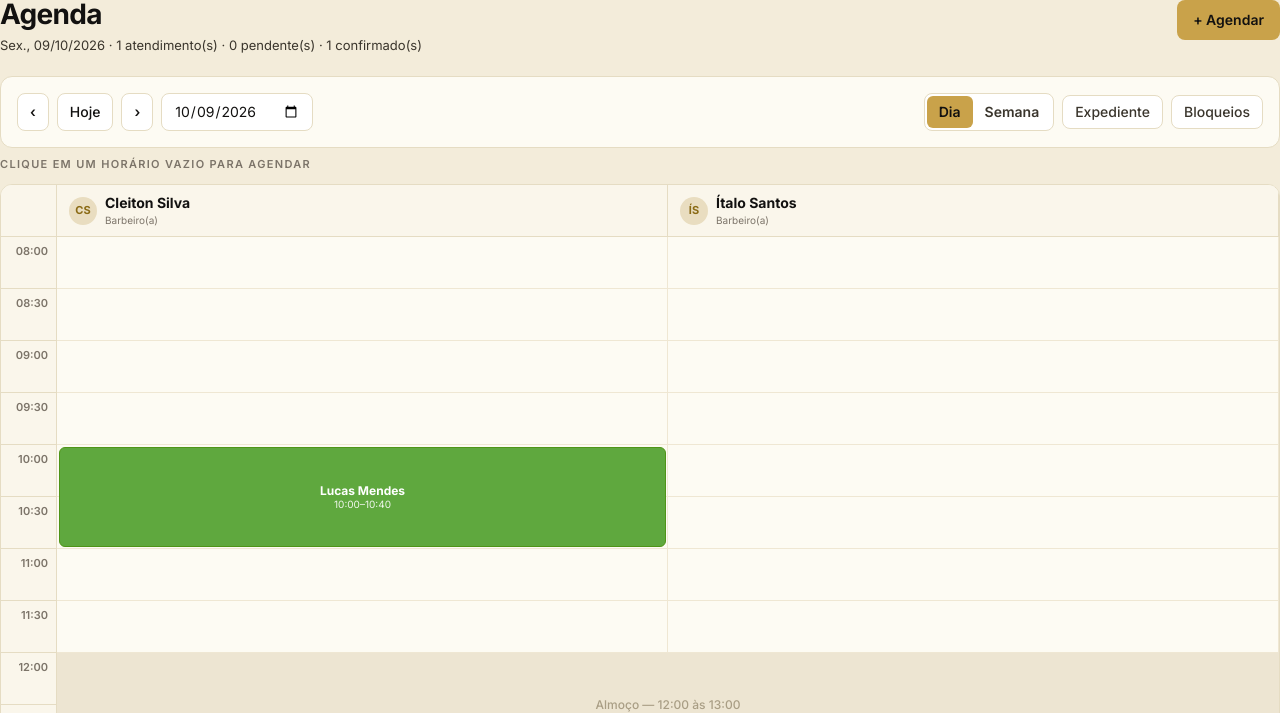
Test: Agenda — visão dia › Finalizar atendimento abre a tela de fechar conta
Click the text "Lucas Mendes" at (362, 491), box x1=320 y1=483 x2=405 y2=498
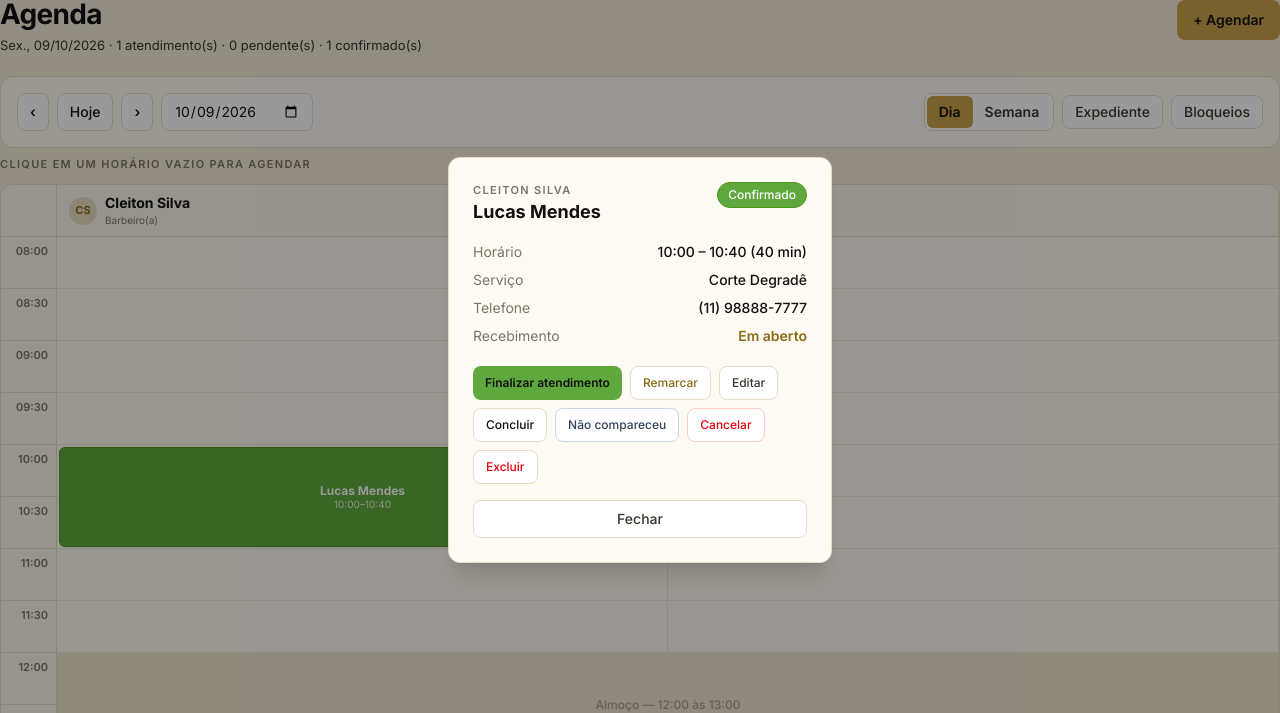
Click the button "Finalizar atendimento" at (547, 383), box x1=473 y1=366 x2=622 y2=400
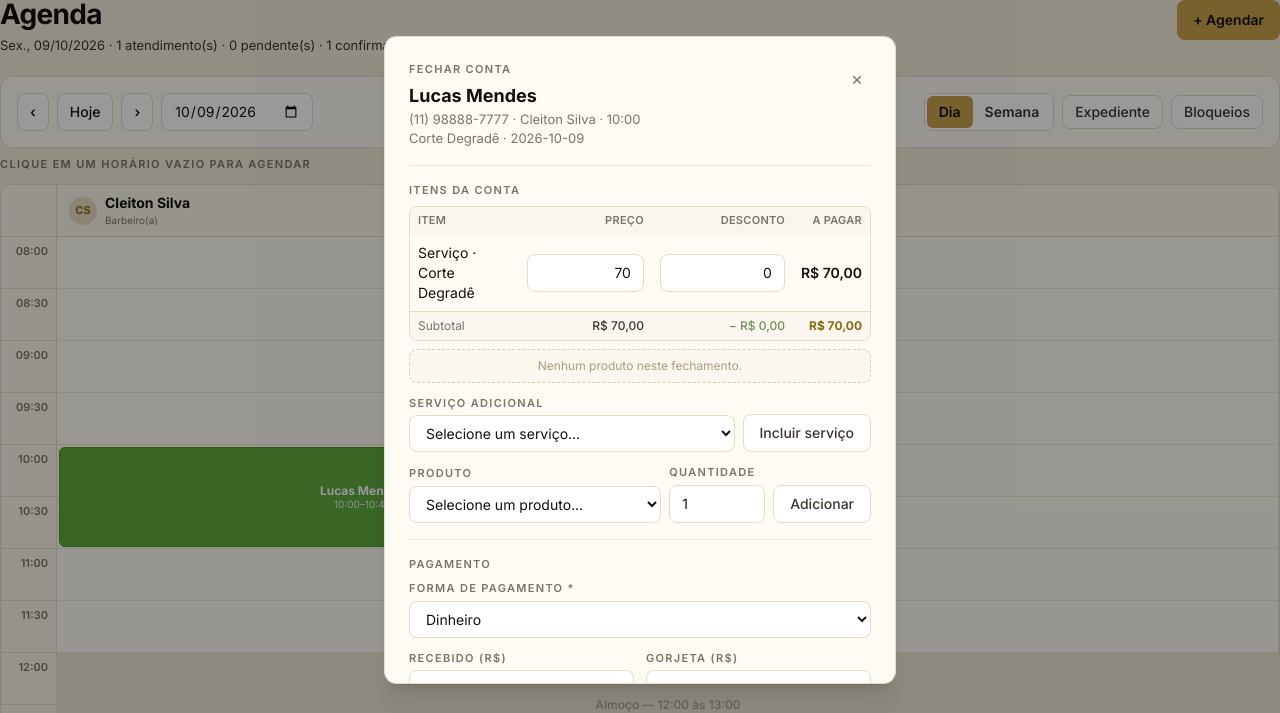
expect the text "Fechar conta" is shown: met, box x1=409 y1=62 x2=511 y2=76
expect the dropdown labelled "Forma de pagamento *" is shown: met, box x1=409 y1=601 x2=871 y2=638
